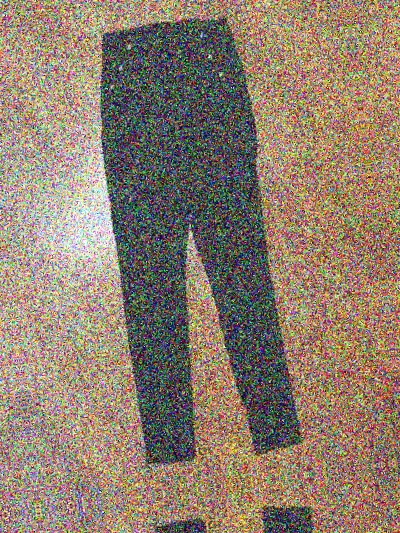Pants: (46, 6, 328, 485), (111, 489, 392, 533)
